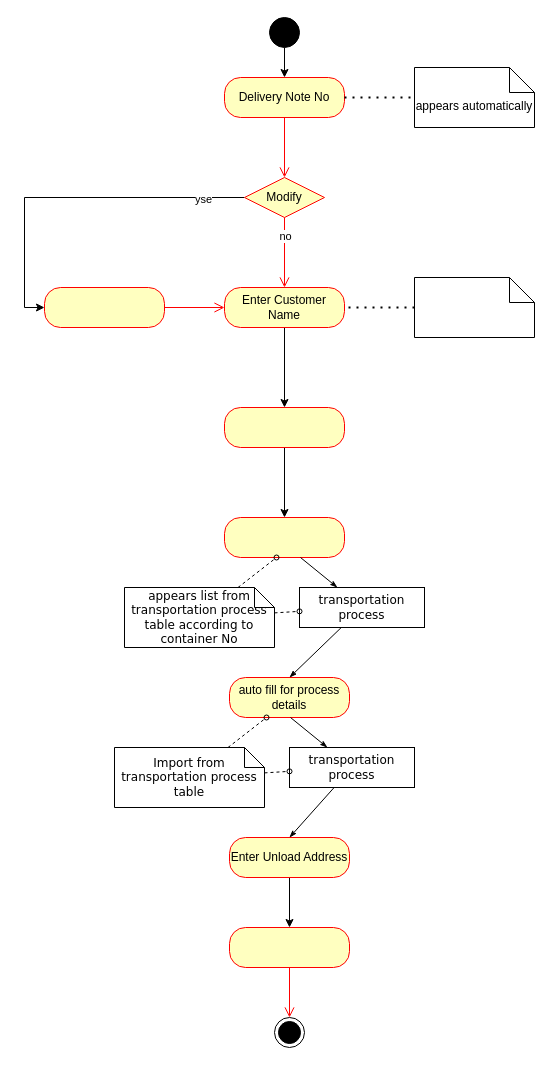
The diagram is 552 pixels wide and 1065 high, and some of its shapes have lost their labels. Each missing label, with the centre of its shape:
"appears automatically from customer table" goes at pixel 474 307.
"container No" goes at pixel 284 537.
"Modify Delivery Note No" goes at pixel 104 307.
"Receipt voucher date" goes at pixel 284 427.
"save" goes at pixel 289 947.
